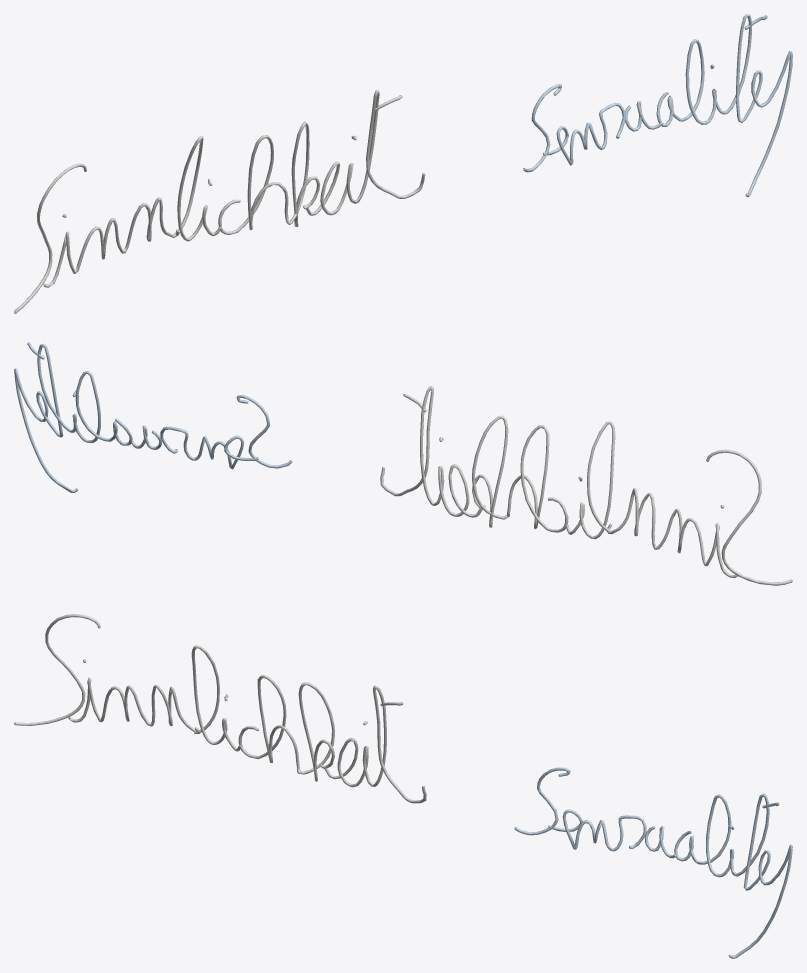
The model's file is sinnlichkeit.glb.
3 views of the same model, one above another, from view 1: azimuth 30°, elevation 25°; view 2: azimuth 150°, elevation 25°; view 3: azimuth 330°, elevation 25° (orthographic). The views are drawn at different scales.
Visible parts, largest first — view 1: Mesh_18.002; view 2: Mesh_18.002; view 3: Mesh_18.002.
Part boxes in pixels (bbox=[...]): Mesh_18.002: bbox=[14, 14, 792, 313]; Mesh_18.002: bbox=[14, 342, 792, 585]; Mesh_18.002: bbox=[14, 614, 792, 958].
Bounding box in the file's own units: 2.8 × 0.6836 × 0.2276.
